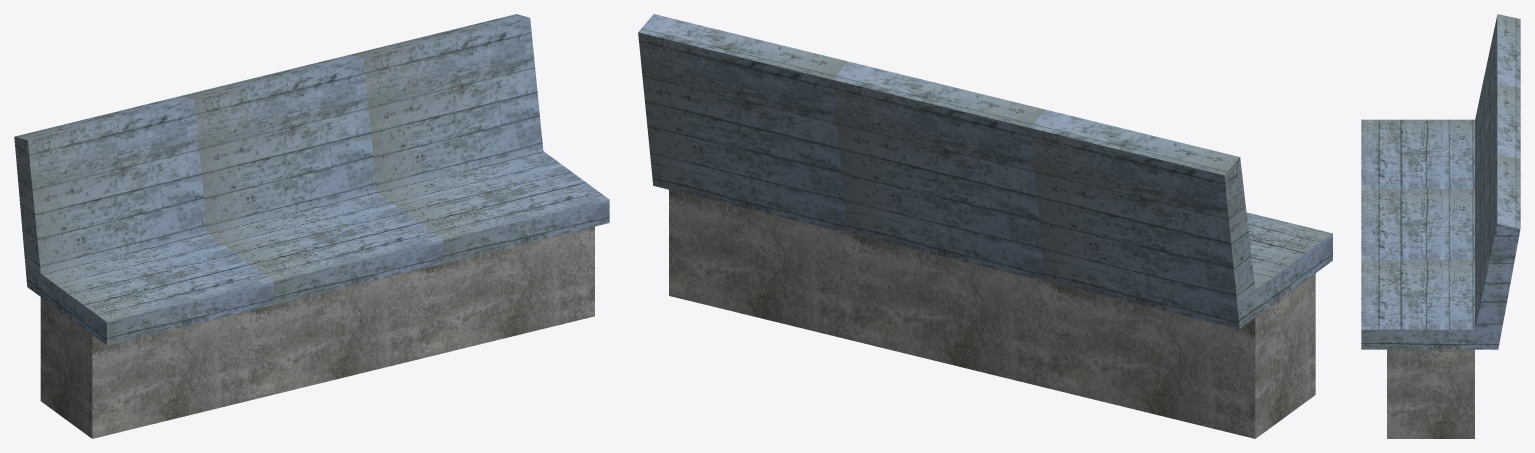
The model's file is bench.FBX.
3 views of the same model, side by side, from view 1: azimuth 30°, elevation 25°; view 2: azimuth 150°, elevation 25°; view 3: azimuth 270°, elevation 25° (orthographic). The views are drawn at different scales.
Parts seen in each view (by area): view 1: Box01; view 2: Box01; view 3: Box01.
Part boxes in pixels (left/top/right/bottom): Box01: left=14, top=14, right=609, bottom=438; Box01: left=638, top=14, right=1332, bottom=438; Box01: left=1361, top=14, right=1520, bottom=438.
Bounding box in the file's own units: 44.48 × 14.24 × 21.24.
2 materials, 2 textured.
